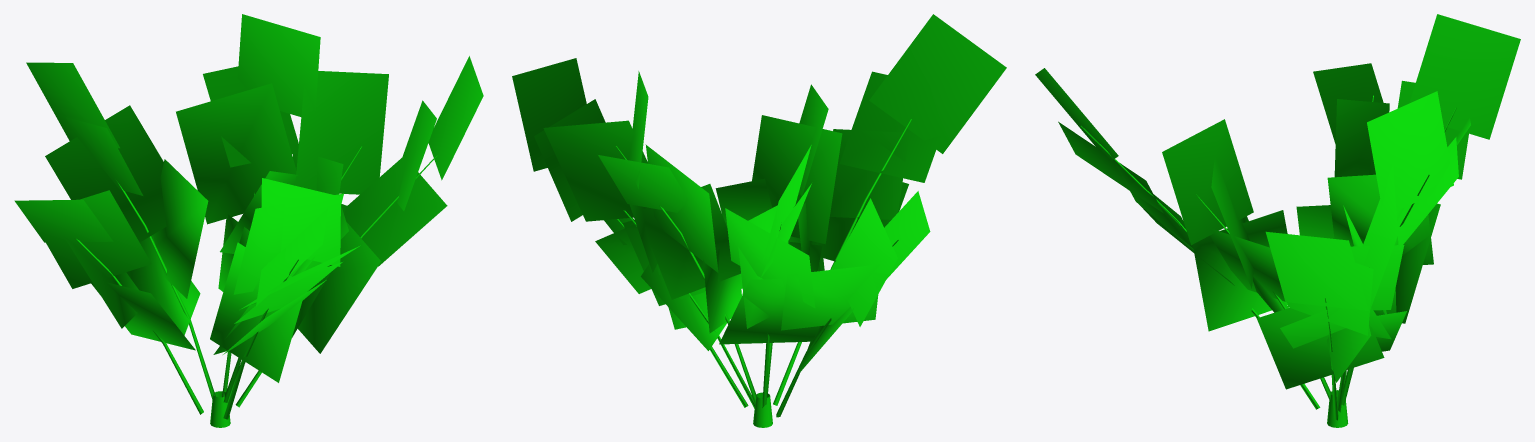
File: shrub_a.glb
3 renders of one model, left to right at view 1: azimuth 30°, elevation 25°; view 2: azimuth 150°, elevation 25°; view 3: azimuth 270°, elevation 25°, orthographic. The views are drawn at different scales.
Parts seen in each view (by area): view 1: shrub_a.1, shrub_a.0; view 2: shrub_a.1, shrub_a.0; view 3: shrub_a.1, shrub_a.0.
Boxes of the visible parts, x1,y1,x2,y2 form: shrub_a.1: (14,14,483,382); shrub_a.0: (75,146,437,427); shrub_a.1: (512,14,1006,374); shrub_a.0: (615,119,911,427); shrub_a.1: (1035,14,1520,389); shrub_a.0: (1080,95,1456,427).
Size of the model in its own units: 3.49 by 2.68 by 3.21.
